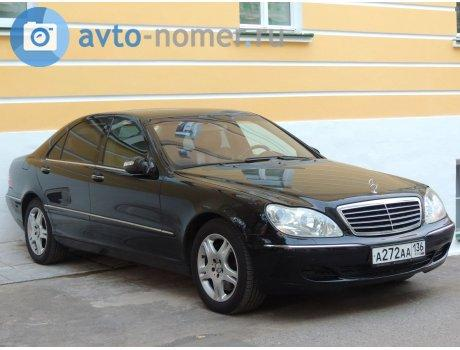license-plateSW: (373, 241, 426, 264)
